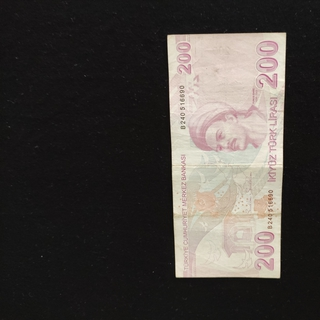200TLBack: (165, 32, 287, 278)
